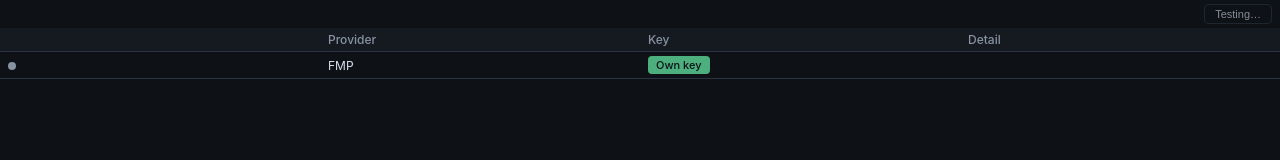
Test: KeysRenderer right-click test › opens a context menu on right-click with a Test this service item
Expected: the number of elements with class "keys-provider" is 1, [328,58,354,72]
Step 1. Right-click the row "FMP Own key" → (640, 65), box [0,52,1279,78]
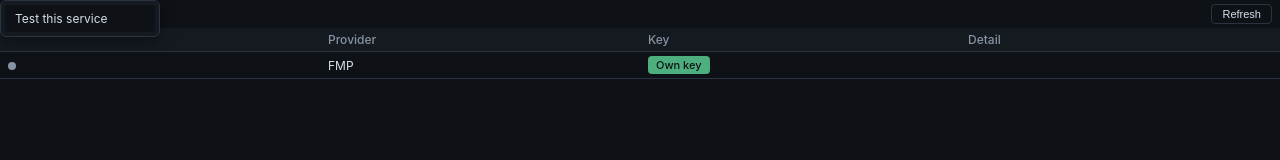
Now the menu is shown, box [0,0,160,37]
Now the menu item "Test this service" is shown, box [5,5,155,32]
